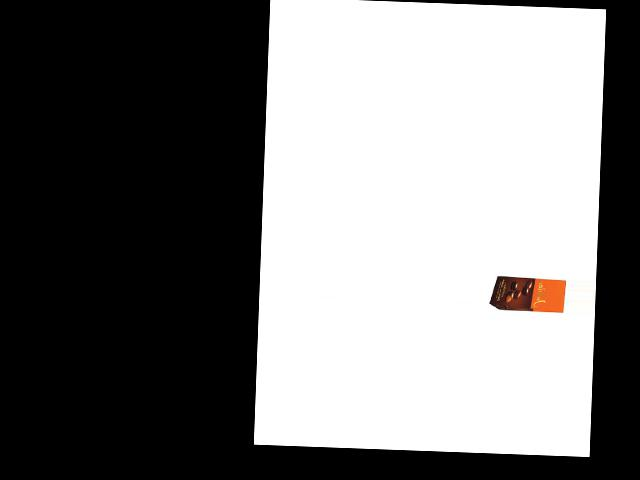chocolate: (490, 271, 565, 314)
